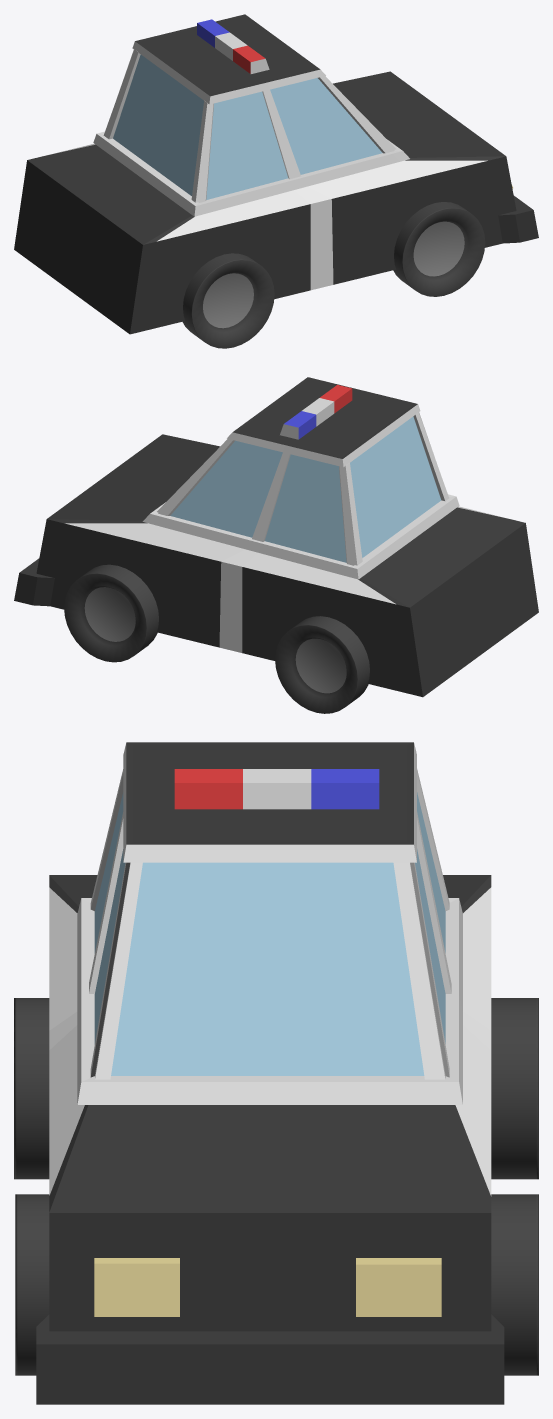
File: police car.fbx
3 views of the same model, one above another, from view 1: azimuth 30°, elevation 25°; view 2: azimuth 150°, elevation 25°; view 3: azimuth 270°, elevation 25° (orthographic). The views are drawn at different scales.
Visible parts, largest first — view 1: Cube.021, Cylinder.006, Cylinder.007; view 2: Cube.021, Cylinder, Cylinder.005; view 3: Cube.021, Cylinder.005, Cylinder, Cylinder.006, Cylinder.007.
Part boxes in pixels (<box>): Cube.021: <box>14,14,538,334</box>; Cylinder.006: <box>182,253,274,348</box>; Cylinder.007: <box>393,202,485,296</box>; Cube.021: <box>14,377,538,697</box>; Cylinder: <box>64,564,158,662</box>; Cylinder.005: <box>275,616,369,713</box>; Cube.021: <box>36,742,504,1404</box>; Cylinder.005: <box>491,998,538,1179</box>; Cylinder: <box>491,1194,538,1375</box>; Cylinder.006: <box>14,998,49,1179</box>; Cylinder.007: <box>15,1194,49,1375</box>.
Bounding box in the file's own units: 9.83 × 5.56 × 5.78.
